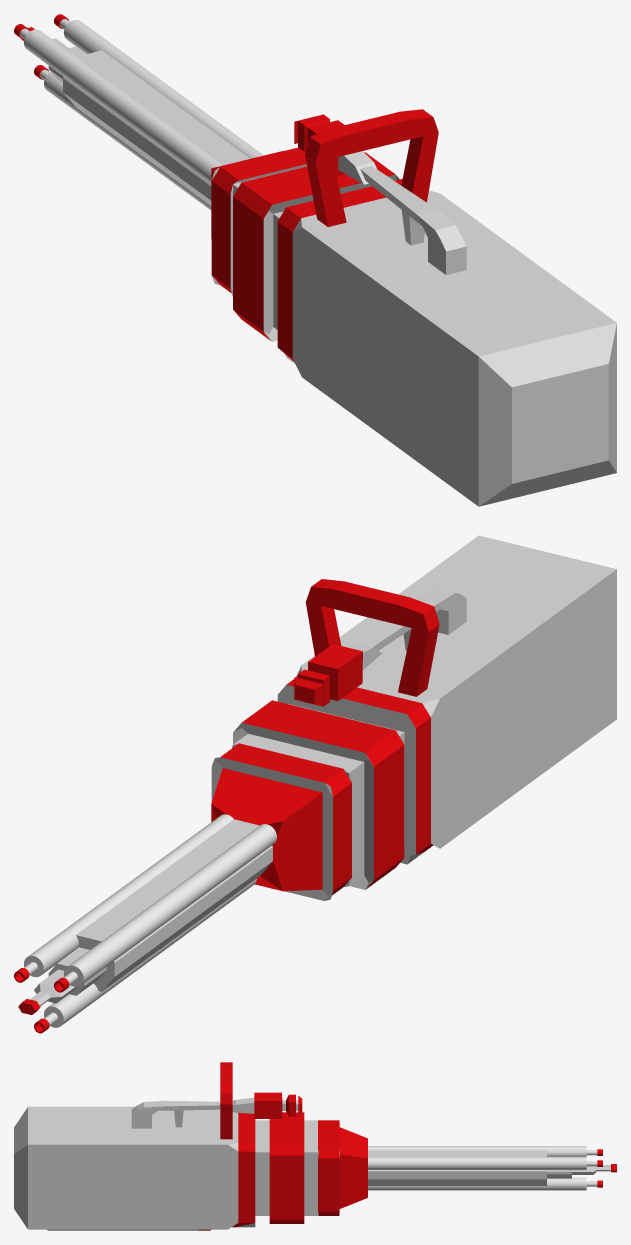
The model's file is minigun_laser.fbx.
3 renders of one model, top to bottom at view 1: azimuth 30°, elevation 25°; view 2: azimuth 150°, elevation 25°; view 3: azimuth 270°, elevation 25°, orthographic. The views are drawn at different scales.
Visible parts, largest first — view 1: Cube, Cylinder; view 2: Cube, Cylinder; view 3: Cube, Cylinder.
Boxes of the visible parts, left/top/right/bottom form: Cube: left=20, top=27, right=616, bottom=506; Cylinder: left=14, top=14, right=263, bottom=210; Cube: left=18, top=535, right=616, bottom=1014; Cylinder: left=14, top=814, right=276, bottom=1033; Cube: left=14, top=1062, right=616, bottom=1230; Cylinder: left=368, top=1146, right=602, bottom=1190.
Bounding box in the file's own units: 193 × 327 × 1266.
